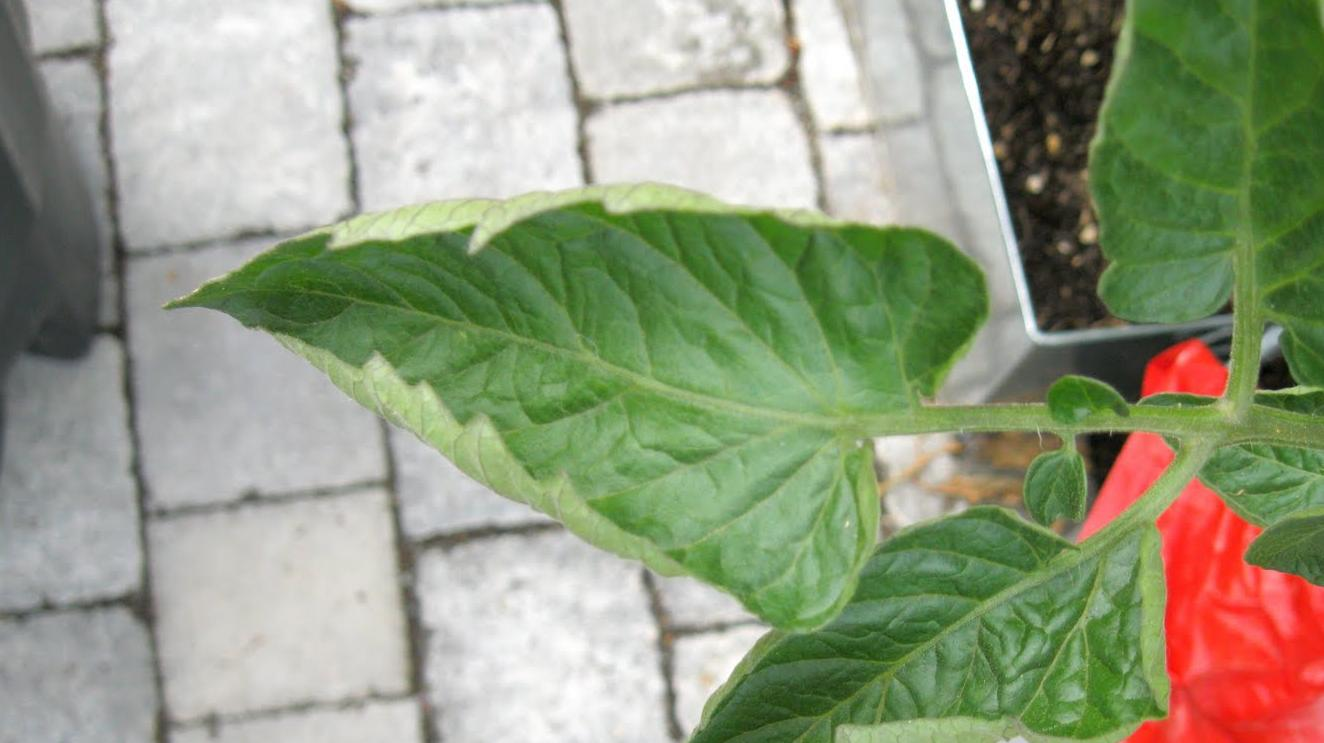Tomato leaf: (202, 197, 991, 633), (585, 491, 1191, 743), (1080, 0, 1324, 410)
